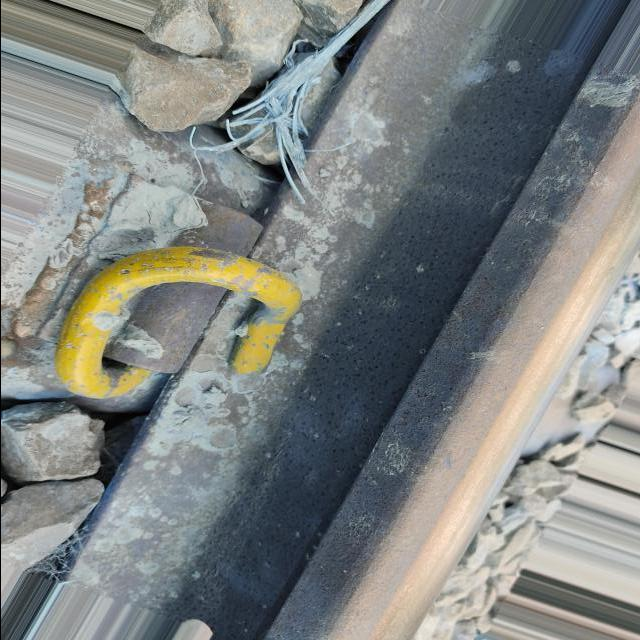squats_high: (463, 348, 507, 362), (442, 447, 457, 474)
